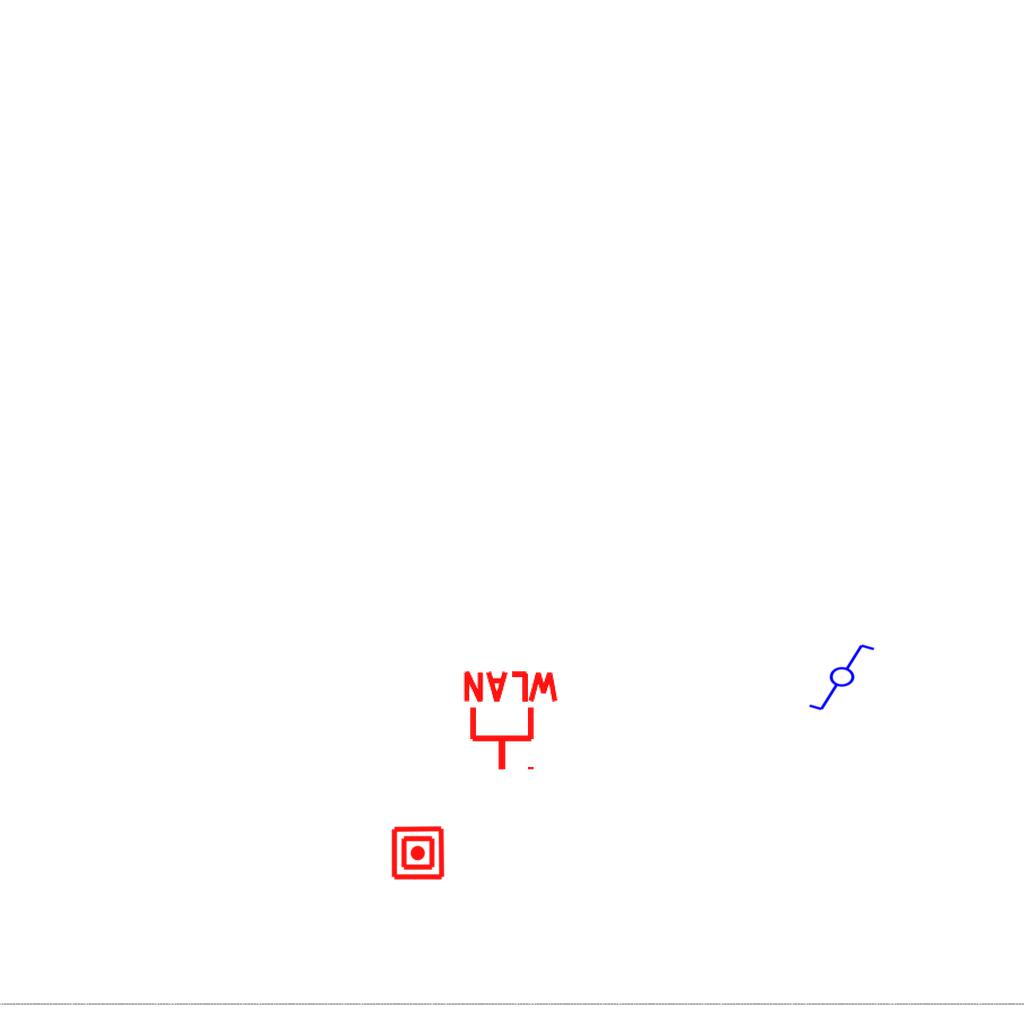NAM-Nichtautomatischer_Melder: (390, 825, 446, 881)
WLAN: (459, 669, 563, 774)
Wechselschalter: (807, 642, 885, 714)
